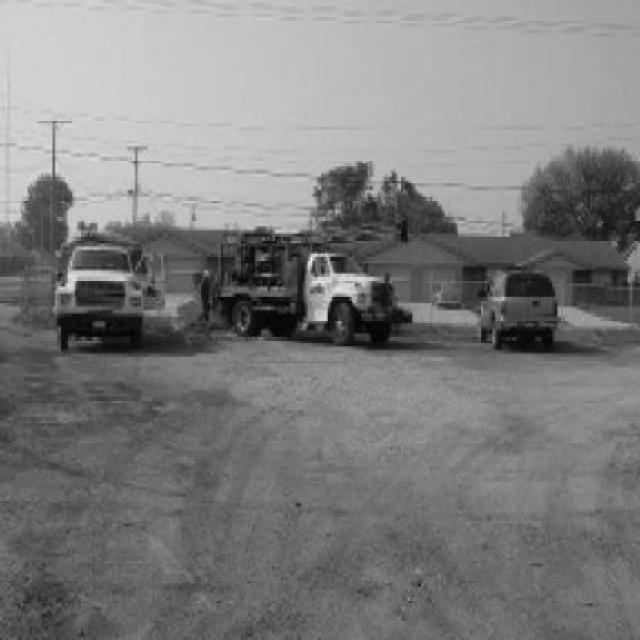Box Truck: (220, 224, 413, 346)
